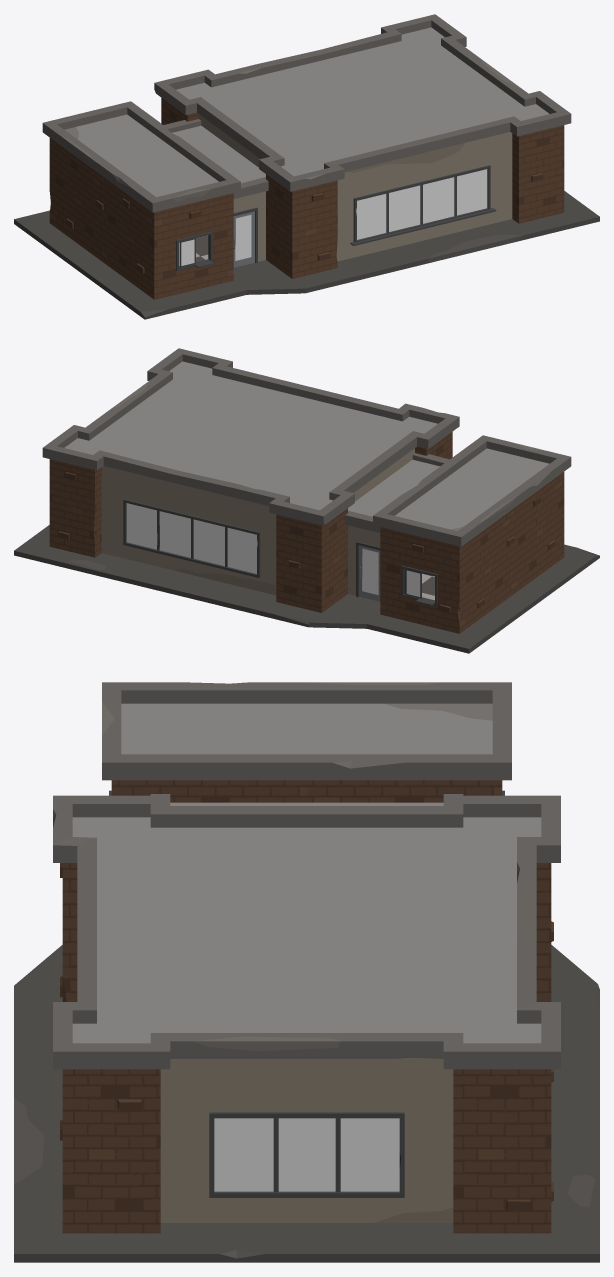
Rendered from SM_Bldg_City_Shop_Big_05.fbx.
The picture shows the model from 3 angles, top to bottom: view 1: azimuth 30°, elevation 25°; view 2: azimuth 150°, elevation 25°; view 3: azimuth 270°, elevation 25°; orthographic projection. The views are drawn at different scales.
Parts seen in each view (by area): view 1: SM_Bldg_City_Shop_Big_05, SM_Bldg_City_Shop_Big_05_Glass; view 2: SM_Bldg_City_Shop_Big_05, SM_Bldg_City_Shop_Big_05_Glass; view 3: SM_Bldg_City_Shop_Big_05, SM_Bldg_City_Shop_Big_05_Glass.
Part boxes in pixels (x1,y1,x2,y2): SM_Bldg_City_Shop_Big_05: (14,14,599,319); SM_Bldg_City_Shop_Big_05_Glass: (356,169,487,239); SM_Bldg_City_Shop_Big_05: (14,348,599,653); SM_Bldg_City_Shop_Big_05_Glass: (126,503,257,573); SM_Bldg_City_Shop_Big_05: (14,682,599,1262); SM_Bldg_City_Shop_Big_05_Glass: (214,1118,399,1191).
Bounding box in the file's own units: 1950 × 440 × 1200.
